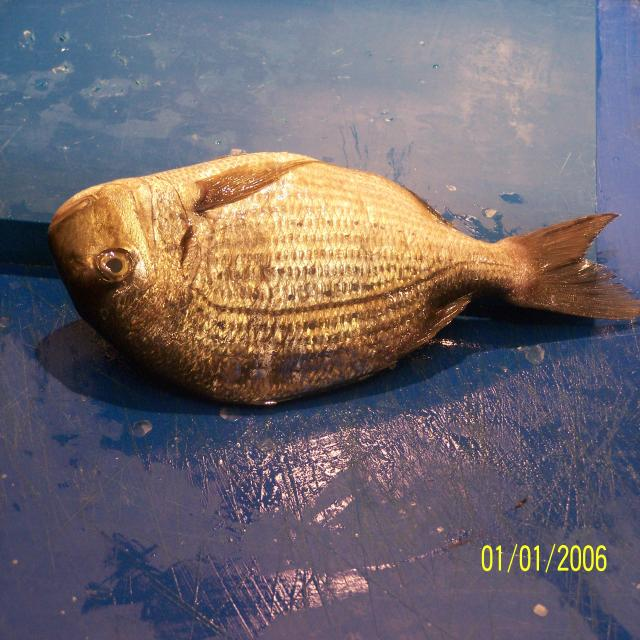Red-Sea-Bream-mercan-: (45, 150, 640, 409)
